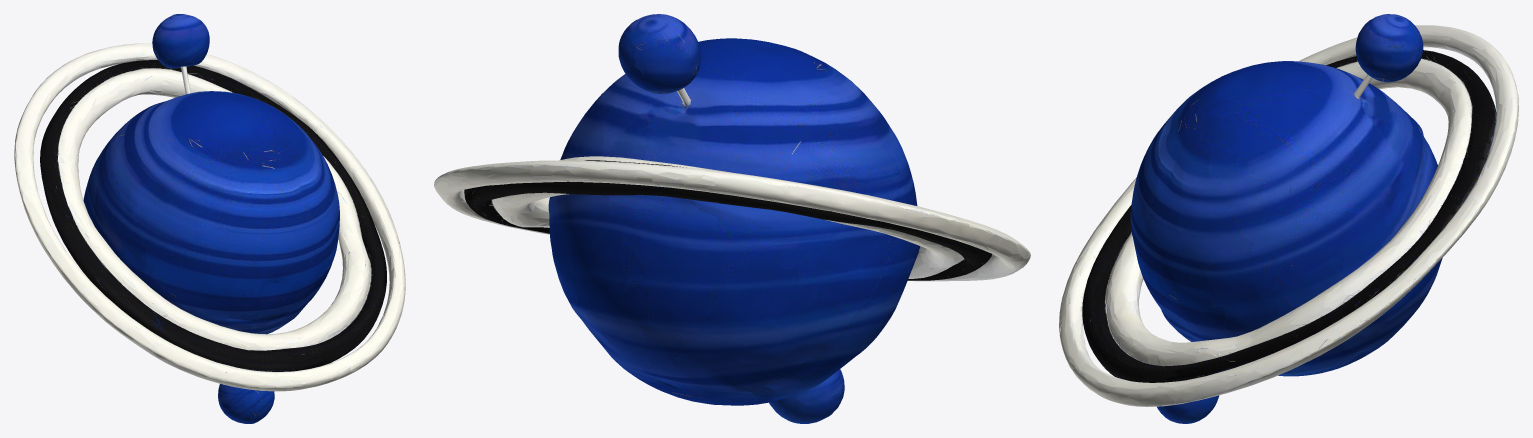
Rendered from hero.glb.
3 renders of one model, left to right at view 1: azimuth 30°, elevation 25°; view 2: azimuth 150°, elevation 25°; view 3: azimuth 270°, elevation 25°, orthographic. The views are drawn at different scales.
Size of the model in its own units: 1.9 by 1.73 by 1.74.
Materials: 1 (1 with a texture image).
